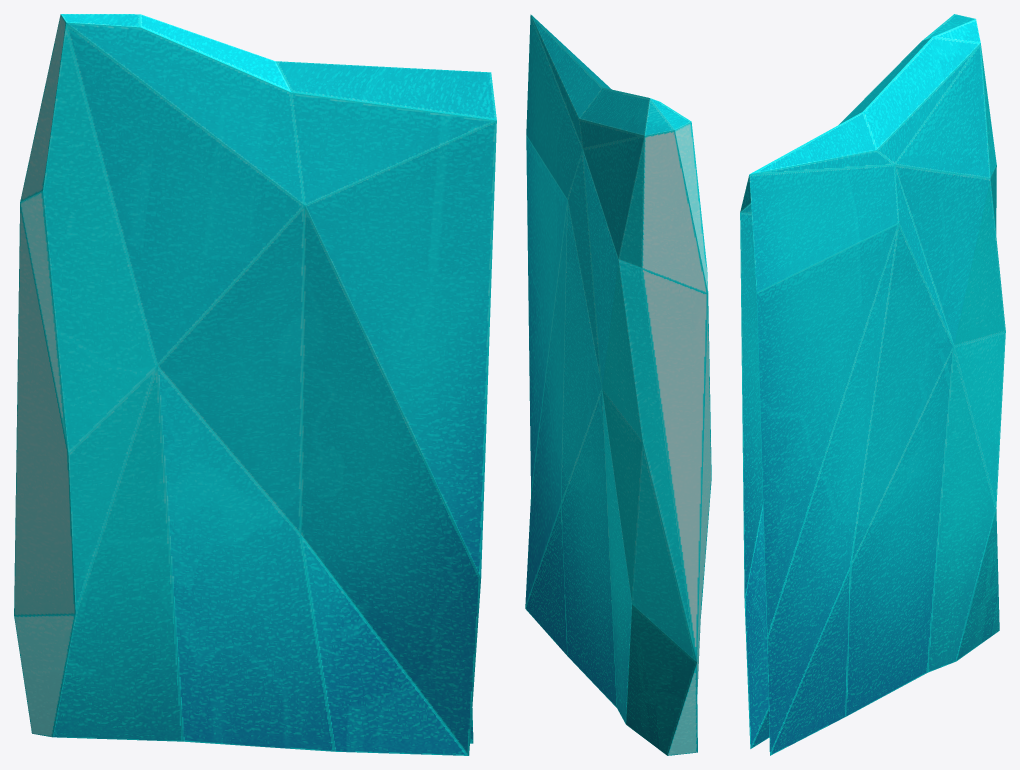
File: wall02.fbx
3 views of the same model, side by side, from view 1: azimuth 30°, elevation 25°; view 2: azimuth 150°, elevation 25°; view 3: azimuth 270°, elevation 25° (orthographic). The views are drawn at different scales.
Visible parts, largest first — view 1: obj_wall02.001; view 2: obj_wall02.001; view 3: obj_wall02.001.
Part boxes in pixels (x1,y1,x2,y2): obj_wall02.001: [14, 14, 496, 755]; obj_wall02.001: [525, 14, 711, 755]; obj_wall02.001: [740, 14, 1005, 755].
Bounding box in the file's own units: 91.77 × 186 × 72.4.
